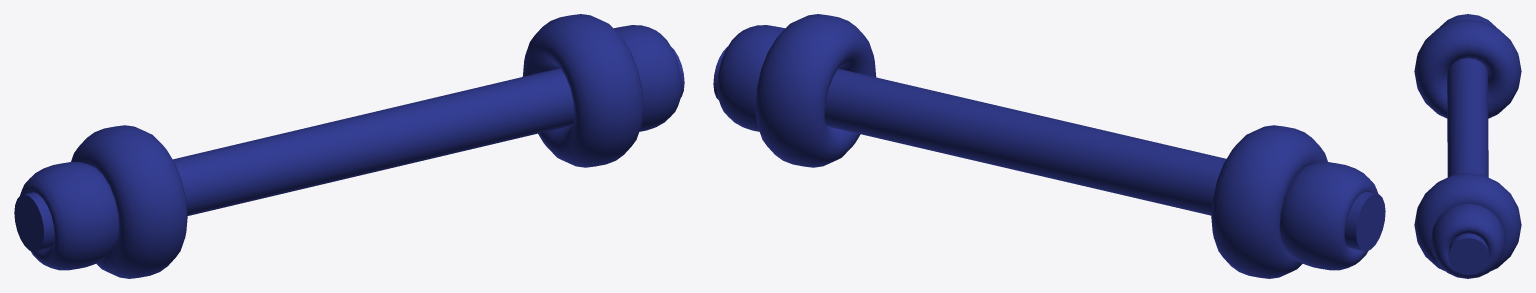
The model's file is dogtoy3.fbx.
3 renders of one model, left to right at view 1: azimuth 30°, elevation 25°; view 2: azimuth 150°, elevation 25°; view 3: azimuth 270°, elevation 25°, orthographic. The views are drawn at different scales.
Visible parts, largest first — view 1: pCylinder2; view 2: pCylinder2; view 3: pCylinder2.
Boxes of the visible parts, bbox=[...] form: pCylinder2: bbox=[14, 14, 684, 278]; pCylinder2: bbox=[713, 14, 1385, 278]; pCylinder2: bbox=[1414, 14, 1521, 278].
Size of the model in its own units: 114 by 23.91 by 23.91.
